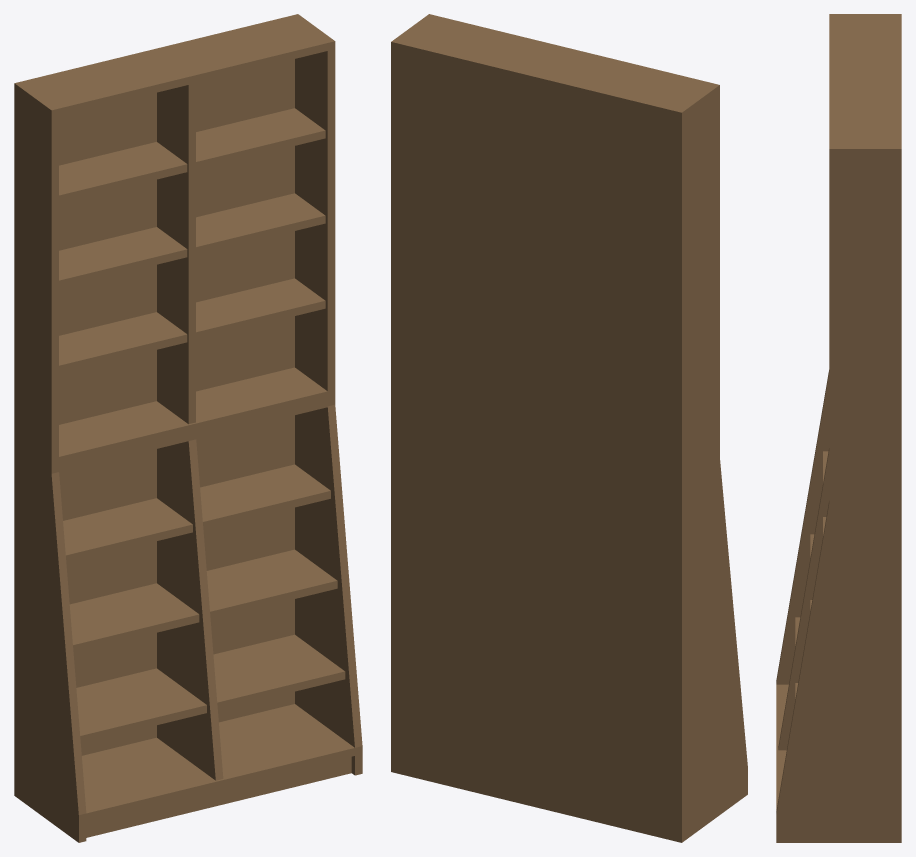
The picture shows the model from 3 angles, left to right: view 1: azimuth 30°, elevation 25°; view 2: azimuth 150°, elevation 25°; view 3: azimuth 270°, elevation 25°; orthographic projection. The views are drawn at different scales.
Visible parts, largest first — view 1: 2, 1; view 2: 1, 2; view 3: 2, 1.
Part boxes in pixels (<box>): 2: <box>14,397,362,842</box>; 1: <box>14,14,335,466</box>; 1: <box>391,14,719,477</box>; 2: <box>391,407,747,842</box>; 2: <box>776,370,901,842</box>; 1: <box>829,14,901,495</box>.
Bounding box in the file's own units: 0.75 × 1.8 × 0.295.
